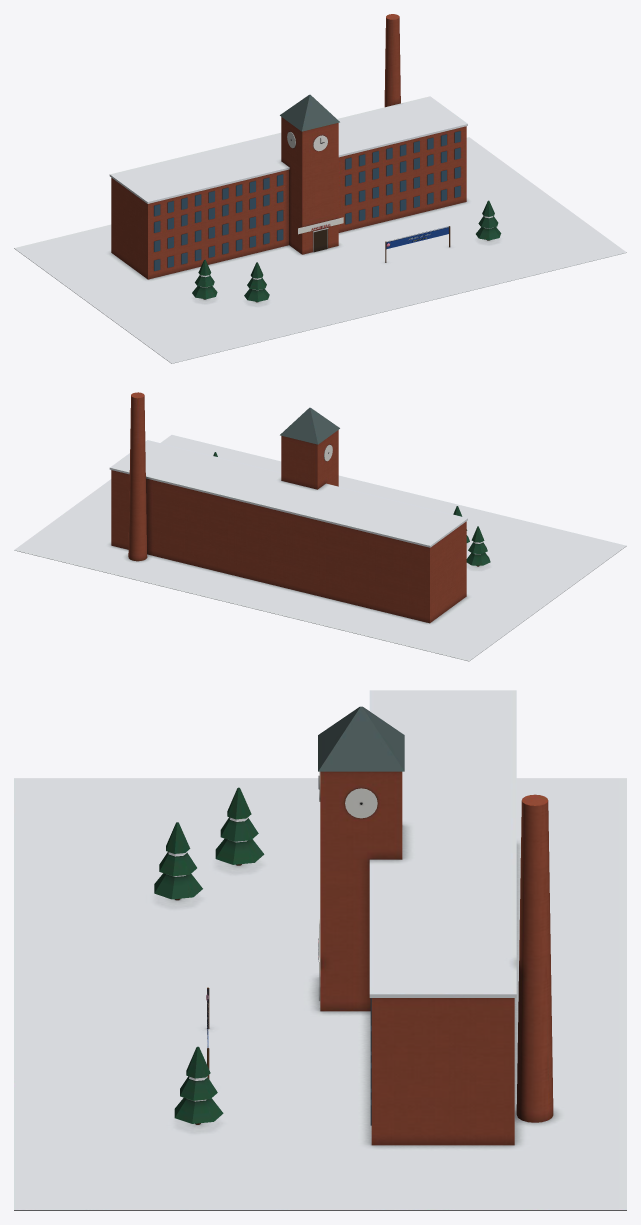
File: molinos_amoskeag.glb
The picture shows the model from 3 angles, top to bottom: view 1: azimuth 30°, elevation 25°; view 2: azimuth 150°, elevation 25°; view 3: azimuth 270°, elevation 25°; orthographic projection. The views are drawn at different scales.
Parts seen in each view (by area): view 1: molinos_amoskeag; view 2: molinos_amoskeag; view 3: molinos_amoskeag.
Boxes of the visible parts, box(x1,y1,x2,y2) form: molinos_amoskeag: box(14, 14, 626, 363); molinos_amoskeag: box(14, 392, 626, 661); molinos_amoskeag: box(14, 690, 626, 1210).
Size of the model in its own units: 100 by 34.05 by 60.
1 material, 1 textured.
